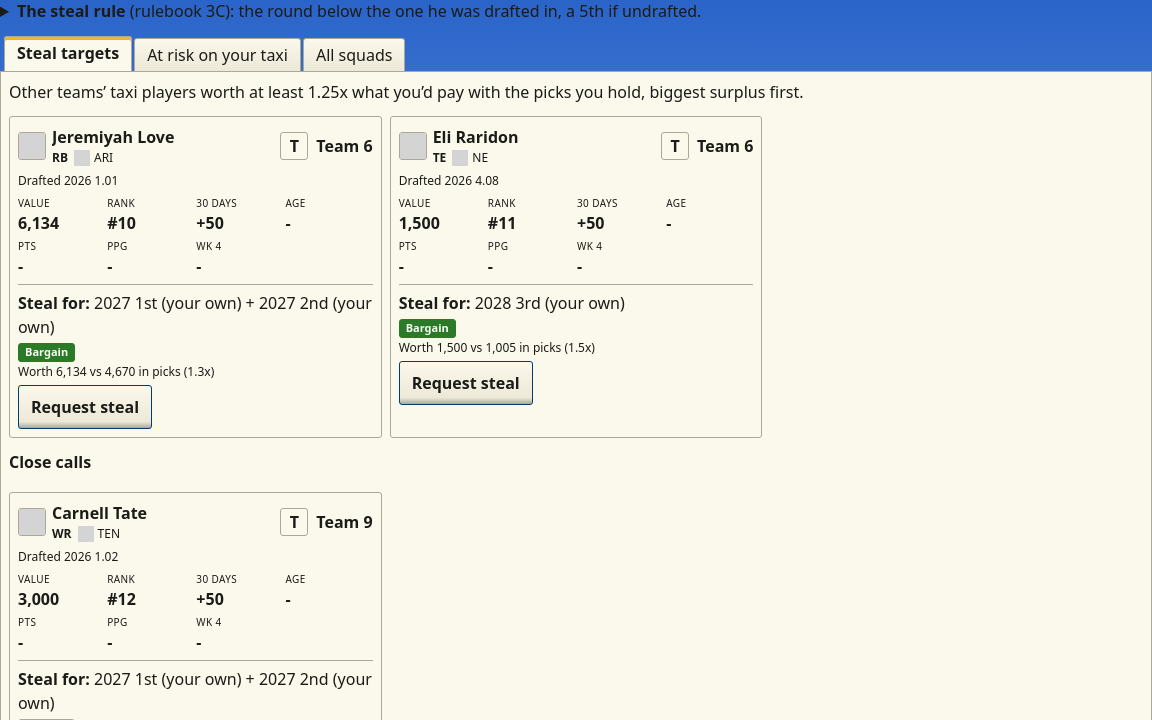
Taxi Squads › confirms exactly what I give up, then requests the steal
Click the button with aria-label "Request steal: Eli Raridon" at {"x": 466, "y": 383}, box [399,361,533,405]
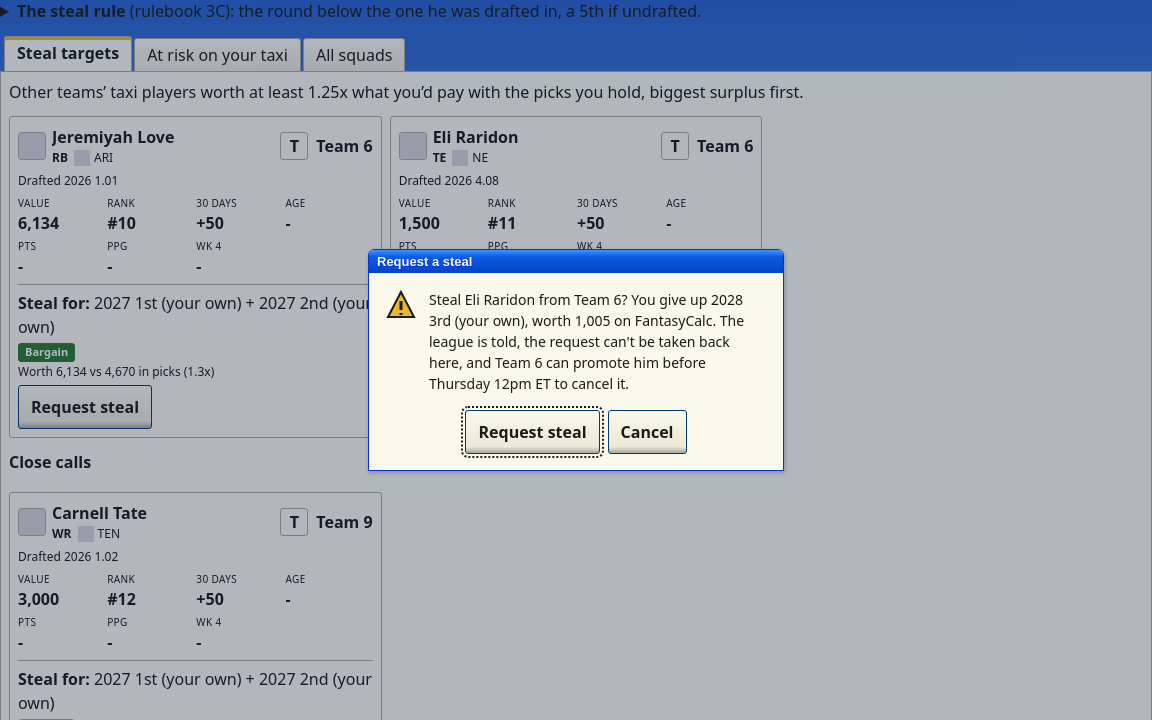
expect the dialog shows "You give up 2028 3rd (your own), worth 1,005 on FantasyCalc.": met, box [429,290,744,393]
Click the button "Request steal" at {"x": 533, "y": 432}, box [466,410,600,454]
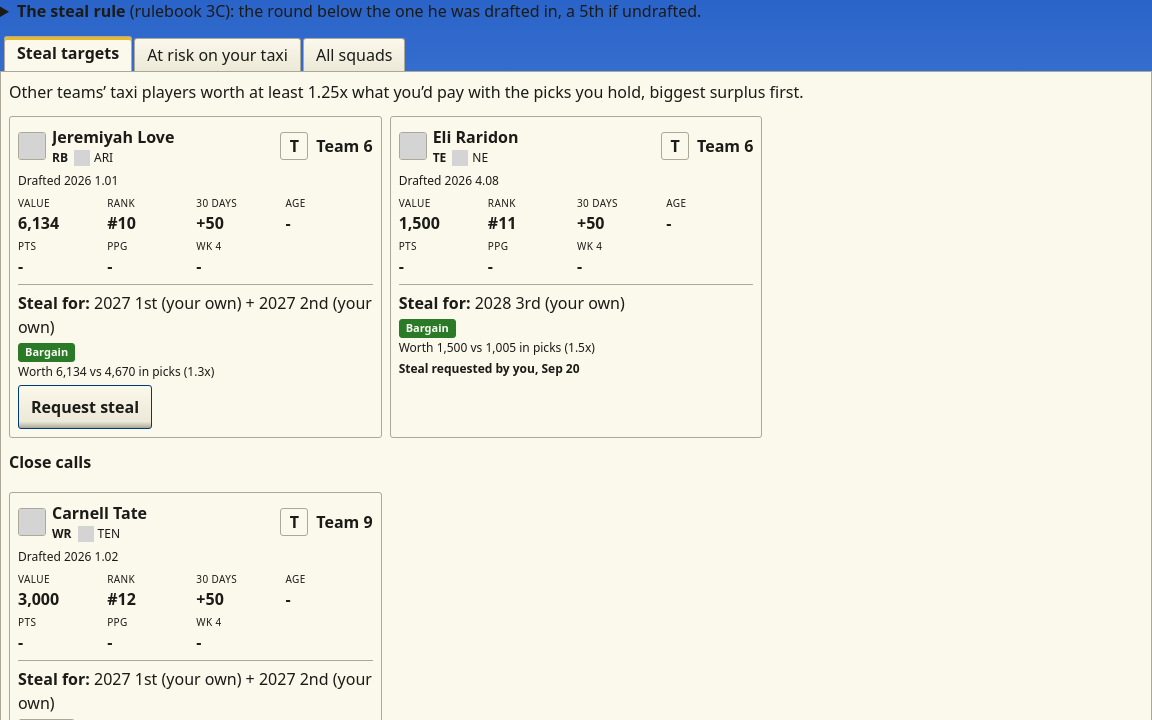
expect the text "Steal requested by you, Sep 20" is shown: met, box [399,360,580,377]
